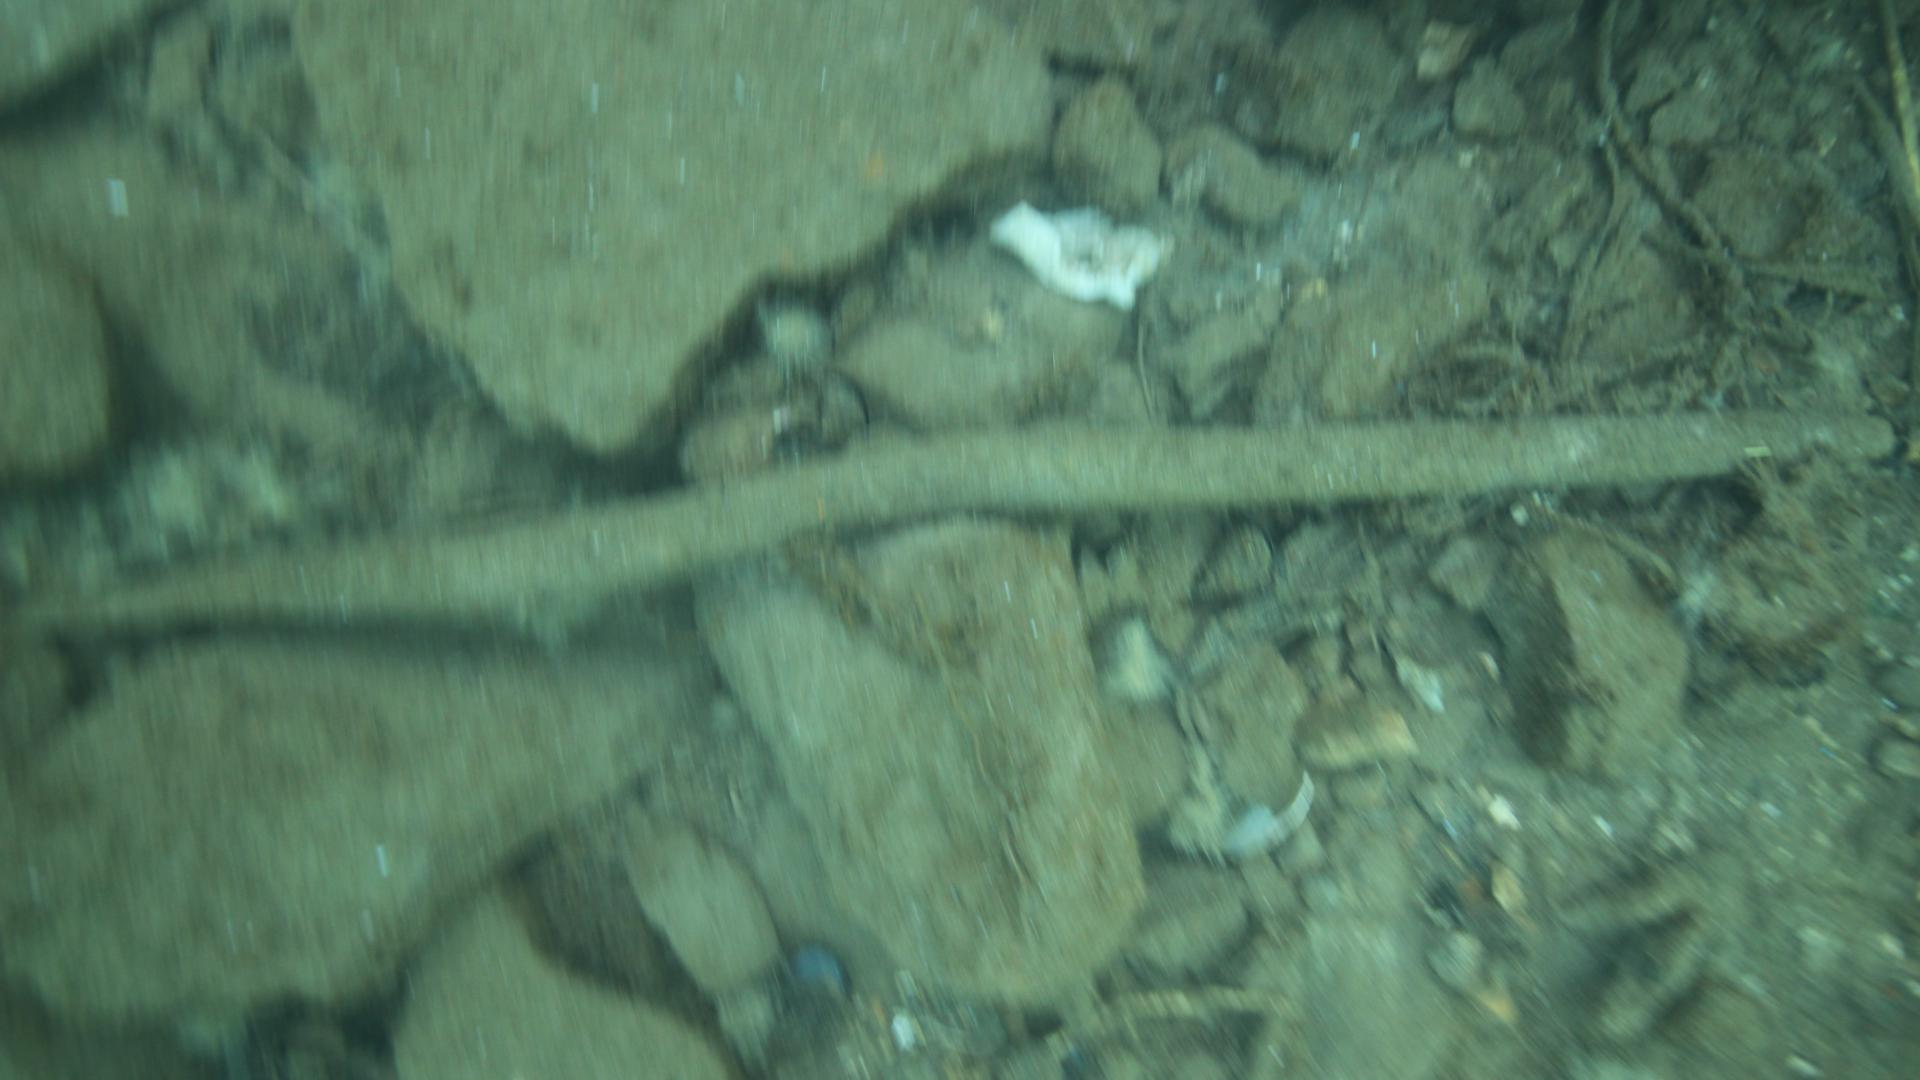wood: (4, 407, 1898, 647)
